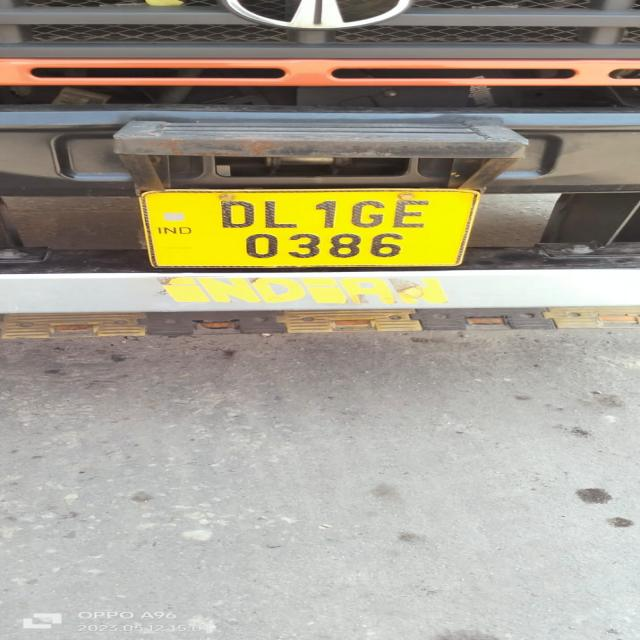License-plate: (150, 187, 453, 258)
